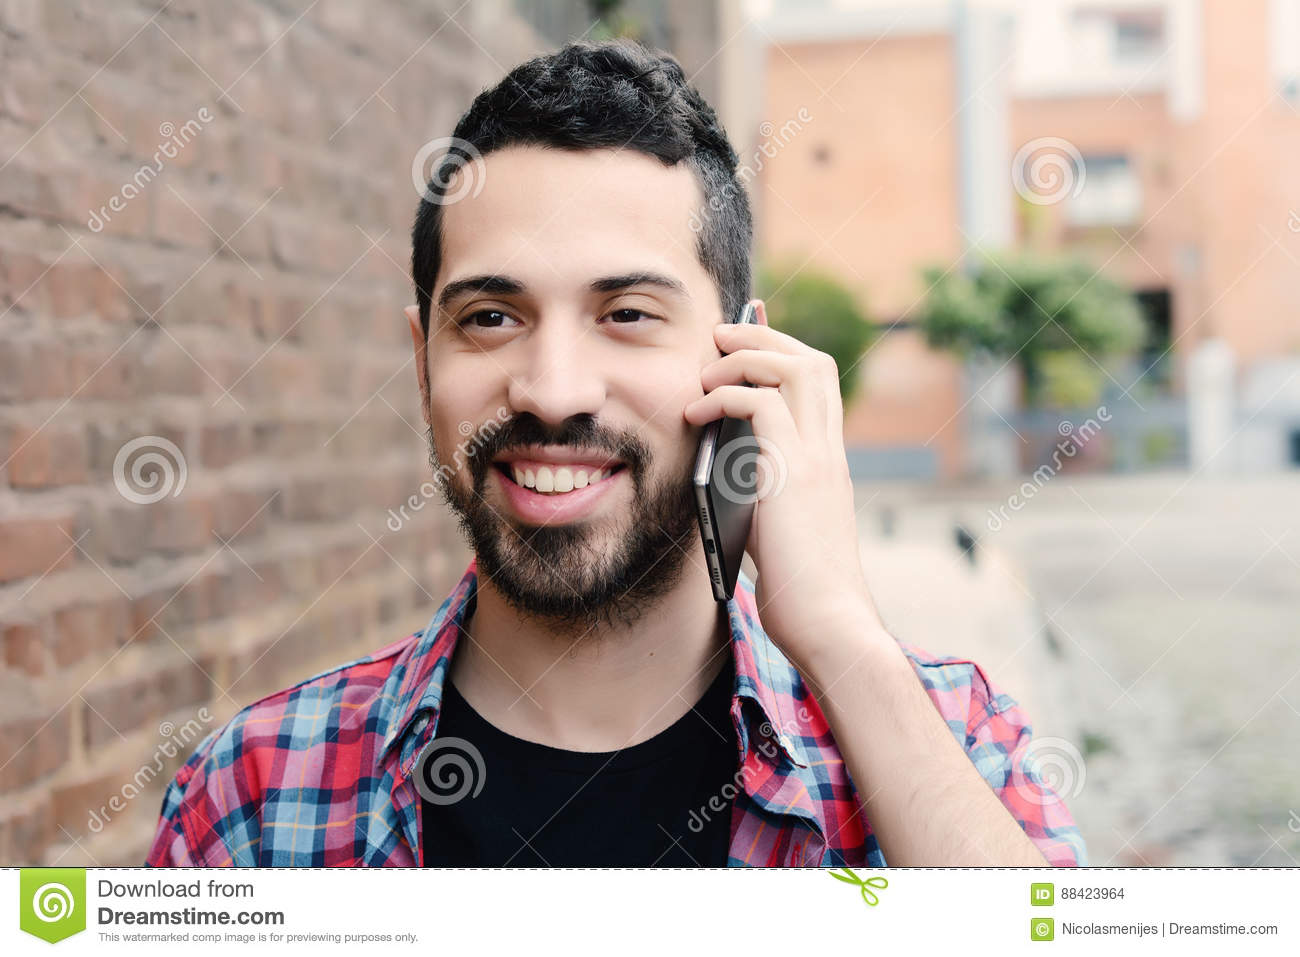phone: (693, 305, 771, 605)
talk: (434, 263, 884, 713)
